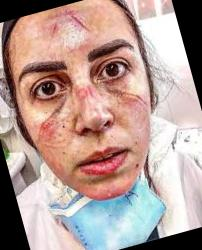mask_weared_incorrect: (11, 24, 178, 223)
